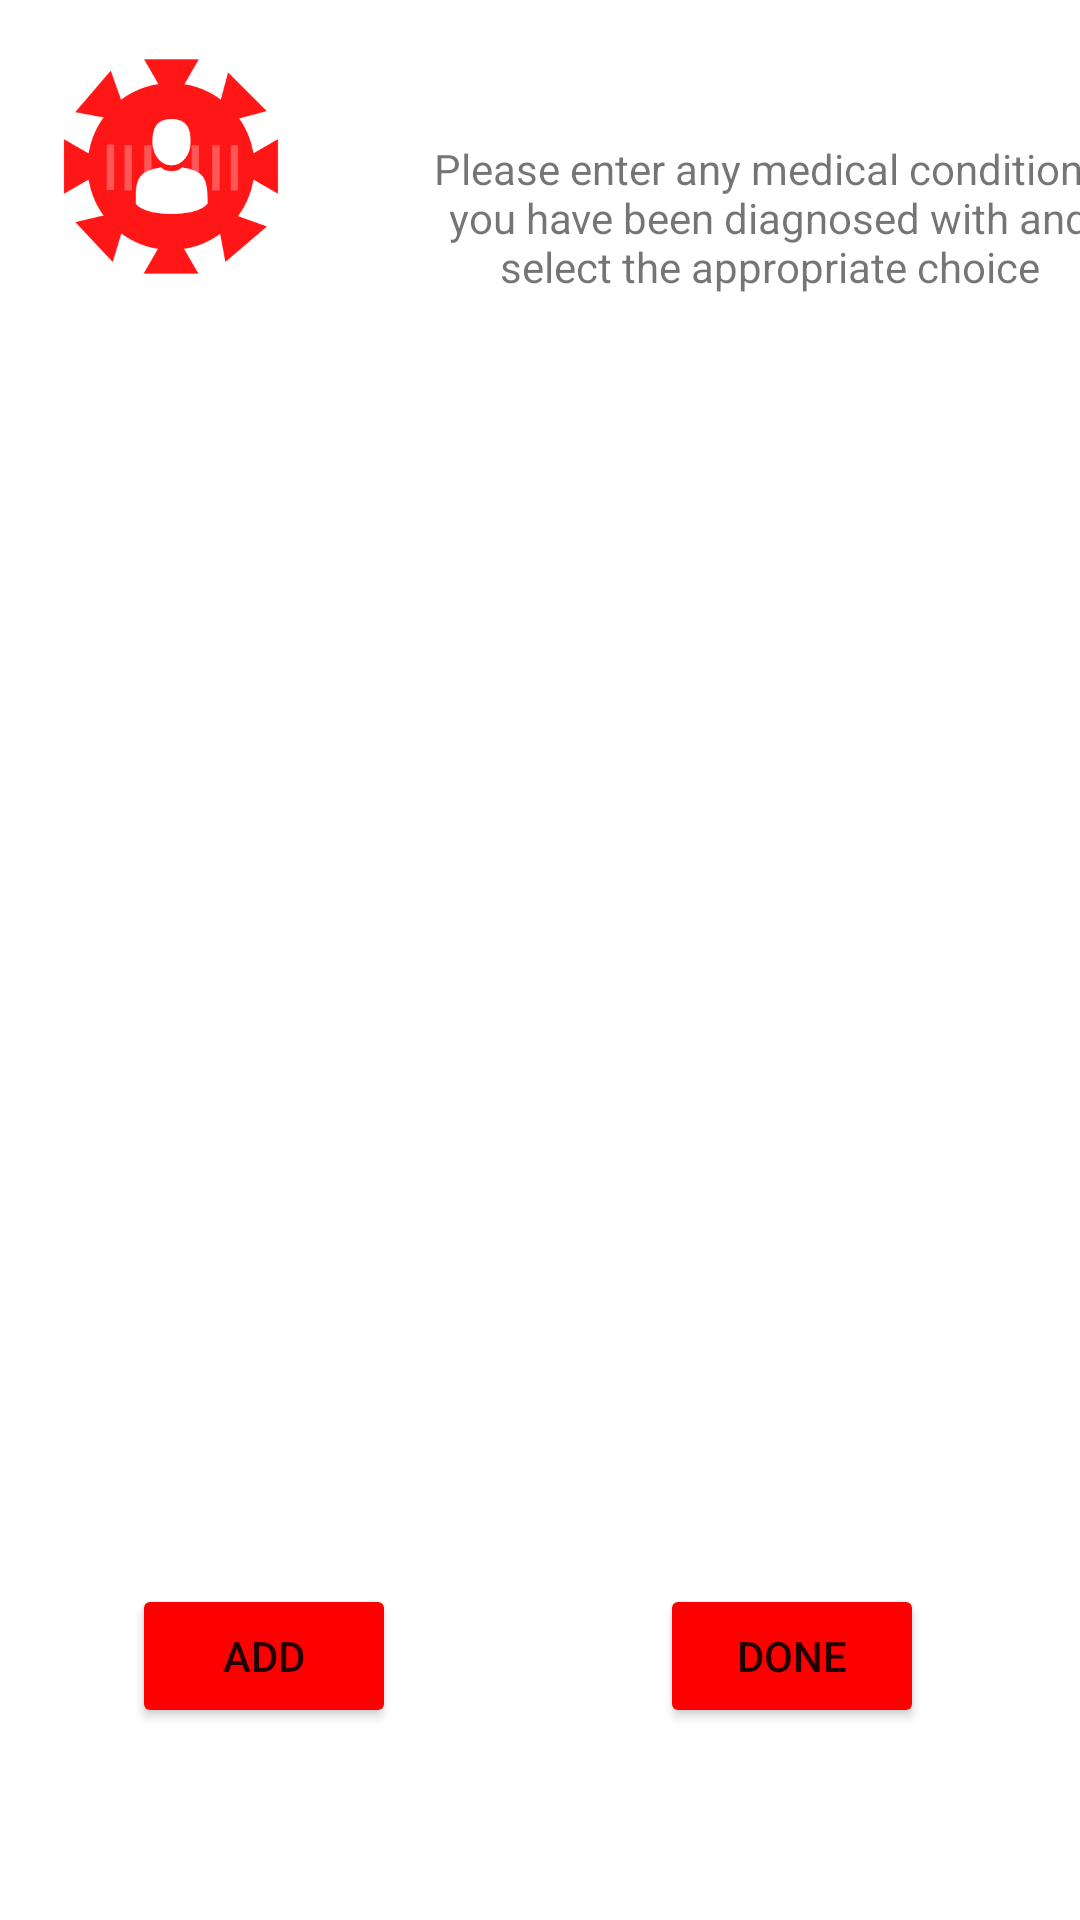

Icons on this 1080×1920 Android screen, each with the point to tap as point (x, y):
covid: point (171, 166)
